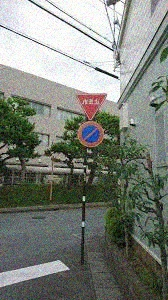Regulatory_sign_triangle: (75, 91, 108, 117)
